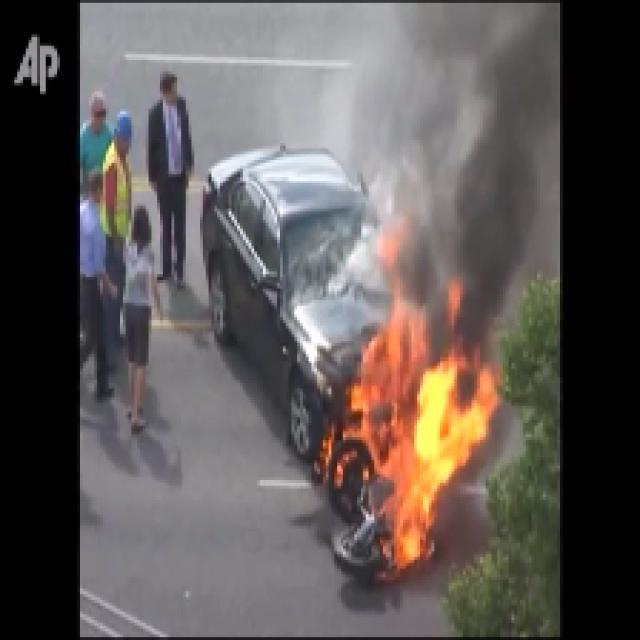Fire: (362, 363, 478, 567)
Smoke: (406, 37, 536, 332)
